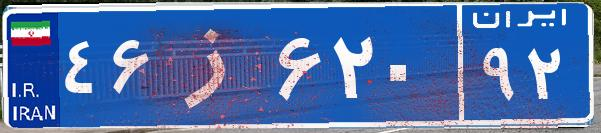0: (385, 28, 445, 110)
2: (330, 28, 385, 110), (525, 38, 570, 115)
4: (57, 26, 110, 107)
6: (273, 28, 330, 110), (110, 28, 158, 105)
9: (475, 38, 525, 113)
ز: (158, 15, 273, 115)
